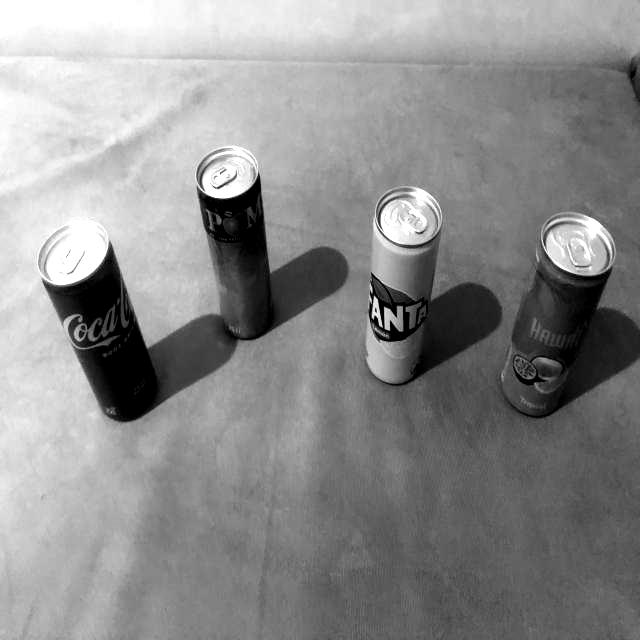metal: (498, 198, 617, 434), (34, 218, 161, 432), (185, 129, 289, 356), (355, 180, 449, 398)
